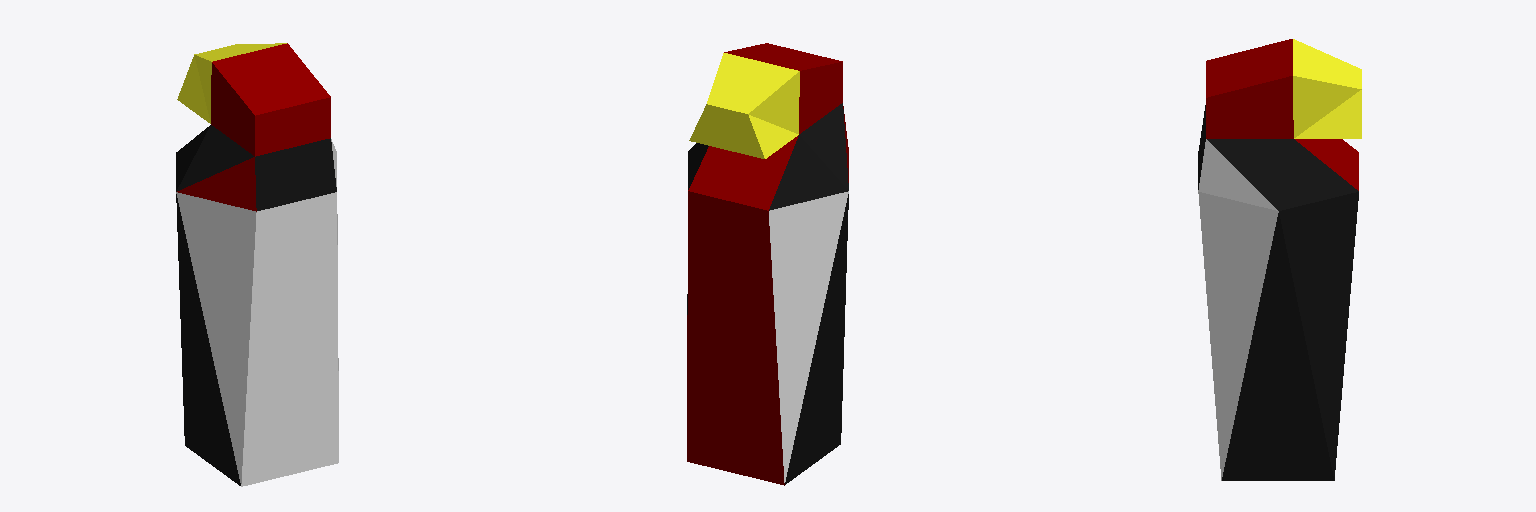
File: miniondepapa.obj
3 renders of one model, left to right at view 1: azimuth 30°, elevation 25°; view 2: azimuth 150°, elevation 25°; view 3: azimuth 270°, elevation 25°, orthographic.
Parts seen in each view (by area): view 1: Mesh1 Model; view 2: Mesh1 Model; view 3: Mesh1 Model.
Boxes of the visible parts, x1,y1,x2,y2 form: Mesh1 Model: [176, 43, 338, 486]; Mesh1 Model: [687, 43, 848, 485]; Mesh1 Model: [1198, 39, 1361, 480].
Bounding box in the file's own units: 0.4144 × 0.9787 × 0.3642.